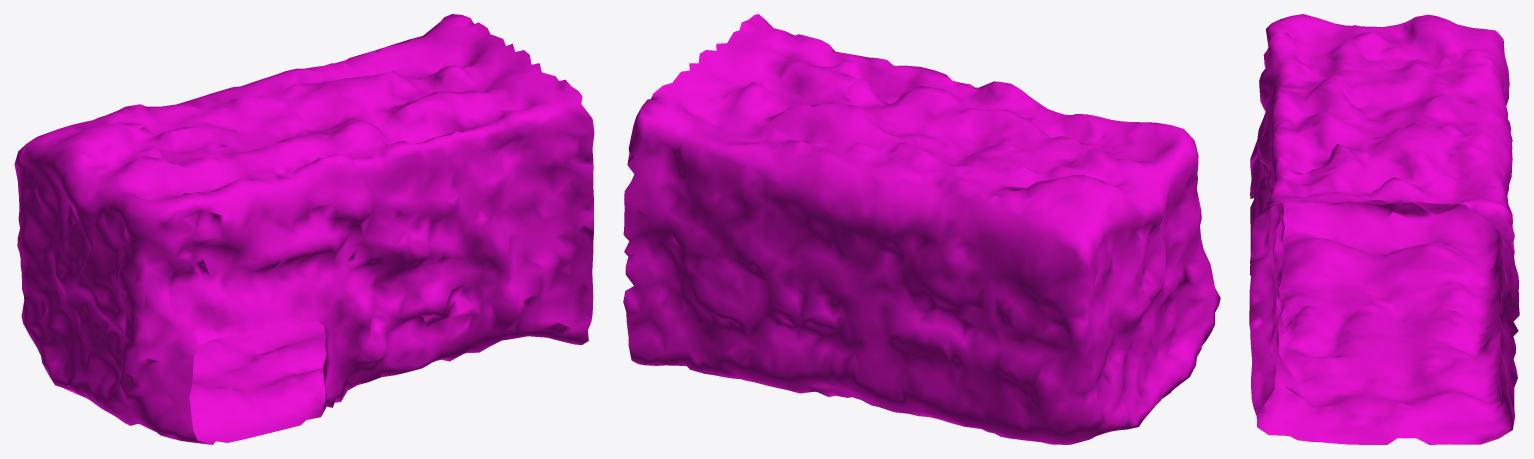
File: Sanctuary_EntranceMesh.gltf
3 views of the same model, side by side, from view 1: azimuth 30°, elevation 25°; view 2: azimuth 150°, elevation 25°; view 3: azimuth 270°, elevation 25° (orthographic). The views are drawn at different scales.
Visible parts, largest first — view 1: Sanctuary_EntranceMesh2; view 2: Sanctuary_EntranceMesh2; view 3: Sanctuary_EntranceMesh2.
Boxes of the visible parts, box(x1,y1,x2,y2) form: Sanctuary_EntranceMesh2: box(14, 14, 594, 444); Sanctuary_EntranceMesh2: box(623, 14, 1220, 444); Sanctuary_EntranceMesh2: box(1249, 14, 1519, 444).
Size of the model in its own units: 30.62 by 16.87 by 16.85.
